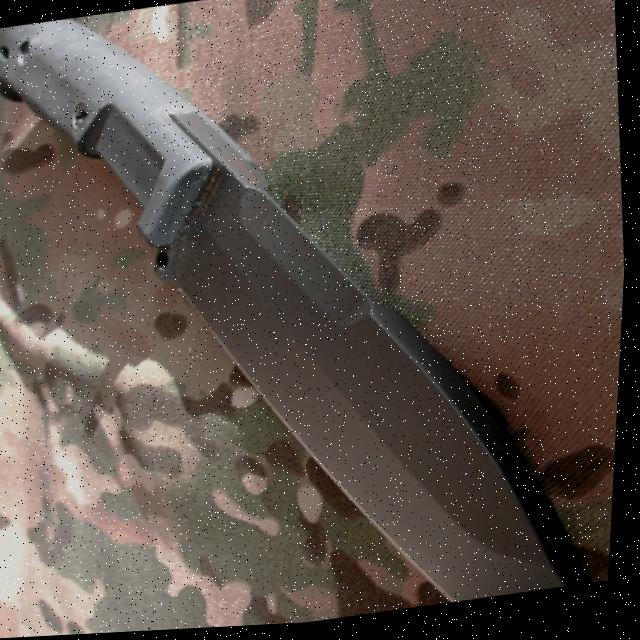knife: (0, 0, 615, 640)
